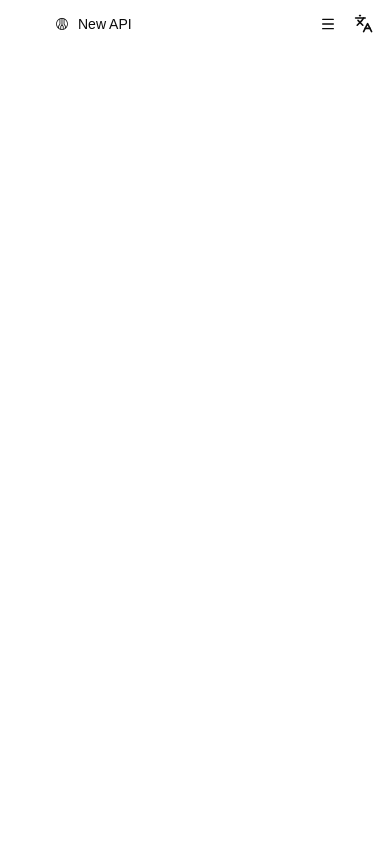
it: AppHeader mobile navigation entry › opening the console sidebar closes the mobile drawer
Click the button named "Open menu": (328, 24) x1=314 y1=10 x2=342 y2=38
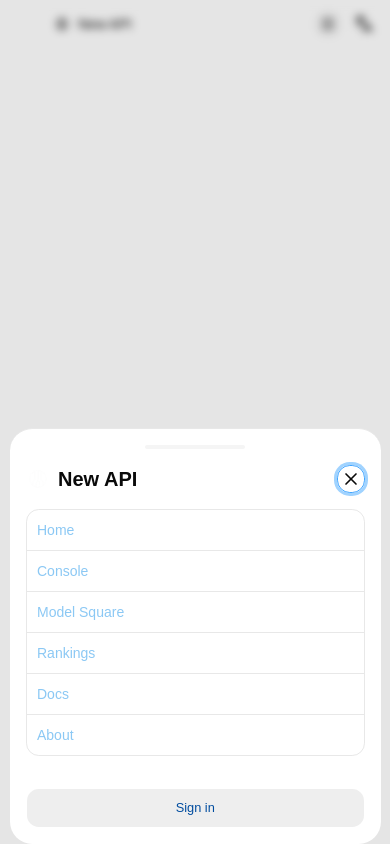
Check: the dialog is shown, box x1=10 y1=428 x2=380 y2=843
Type keys "{Control>}b{/Control}"
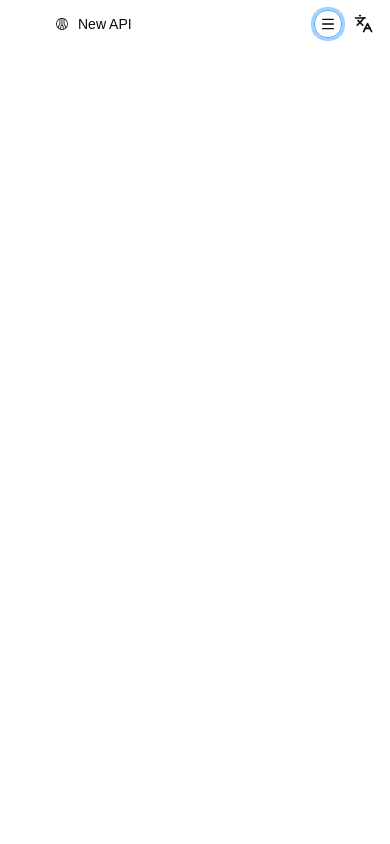
Check: the dialog is gone
Check: the button named "Open menu" is collapsed, box x1=314 y1=10 x2=342 y2=38
